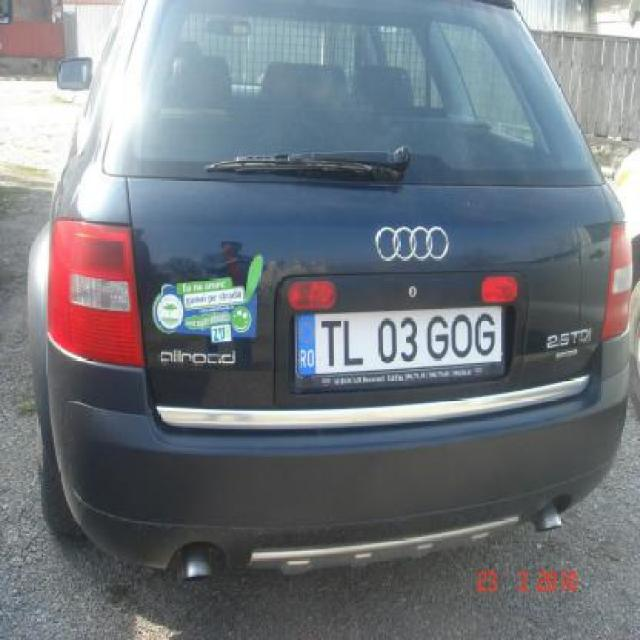License-Plates: (291, 303, 508, 382)
